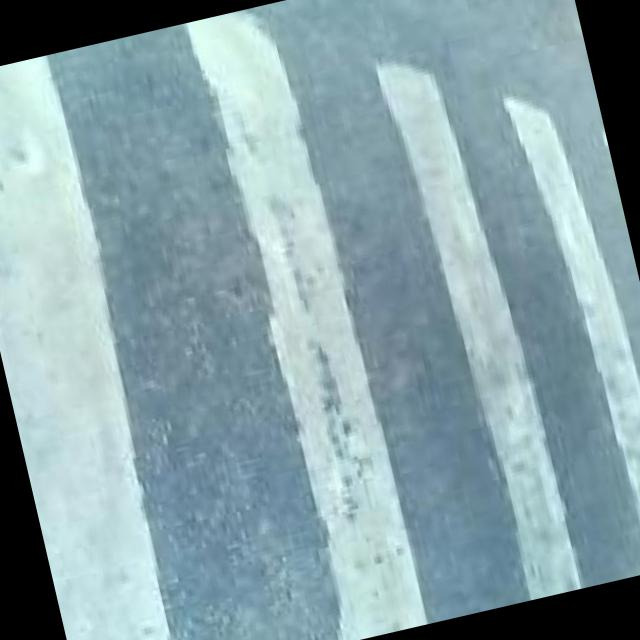zebra: (0, 14, 640, 640)
